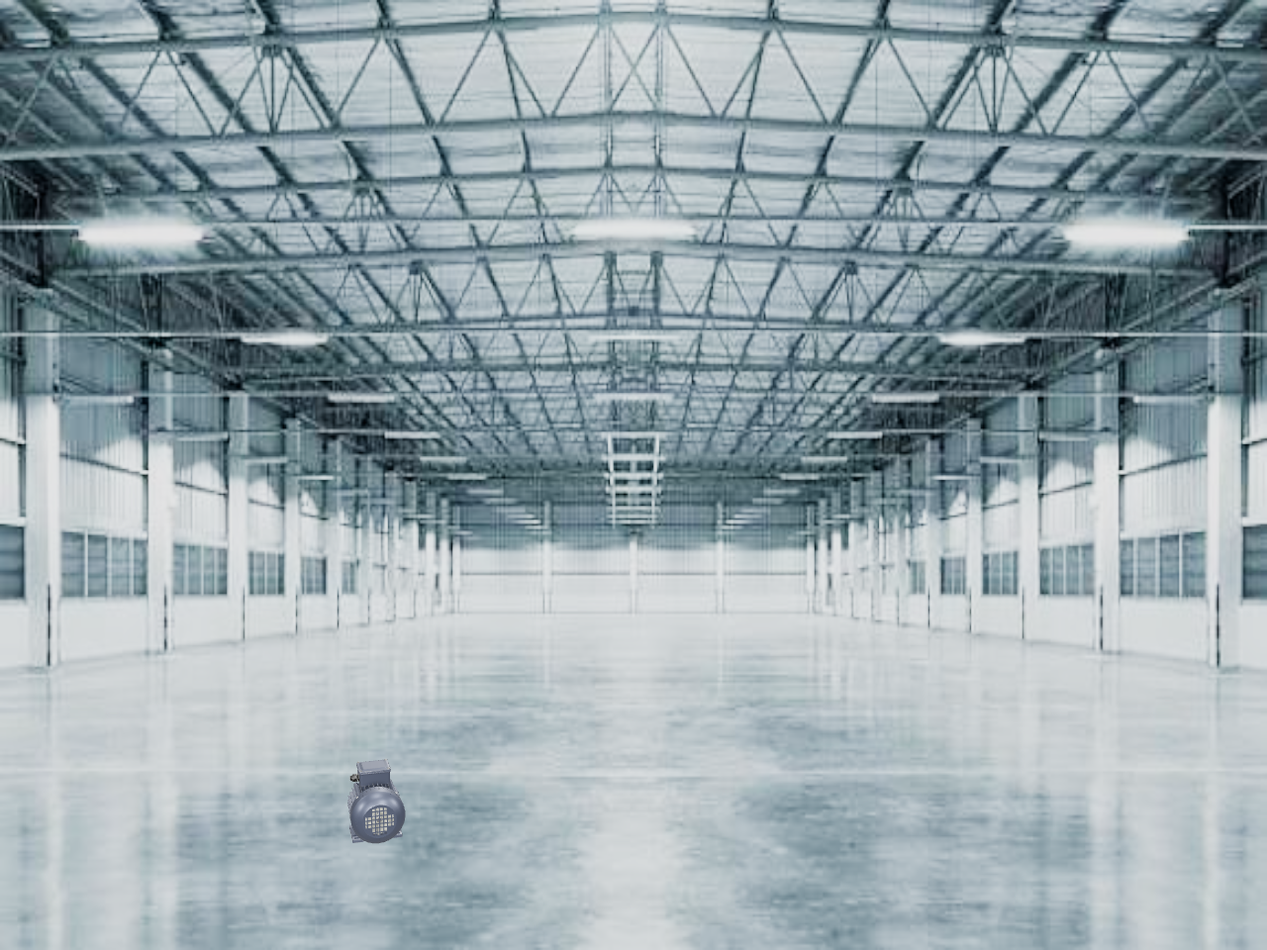ElectroMotor: (348, 759, 405, 843)
